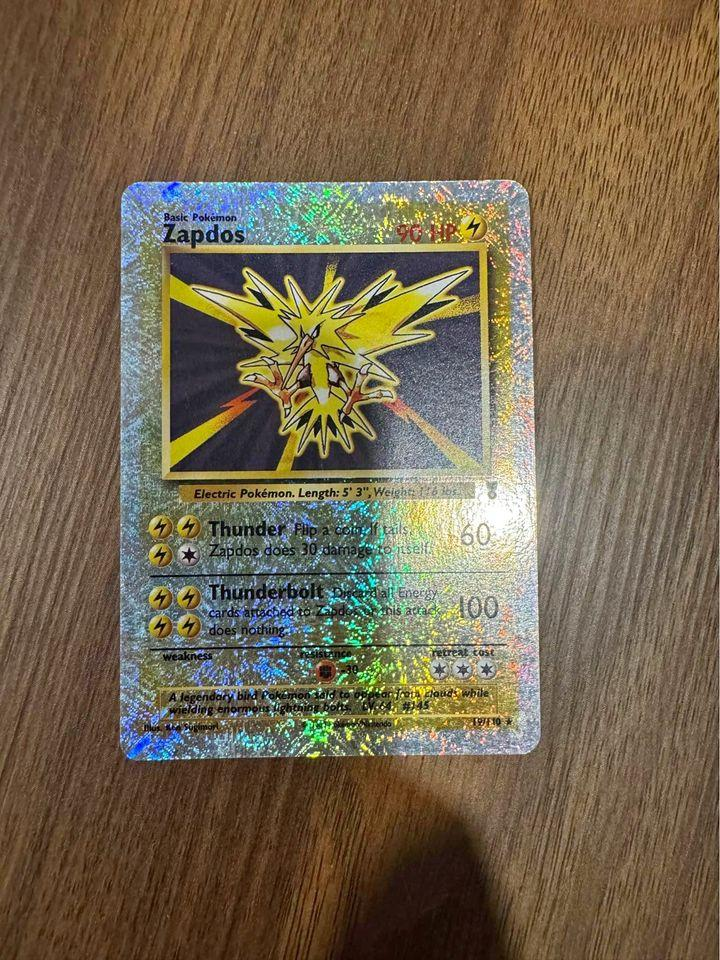card: (119, 177, 543, 764)
